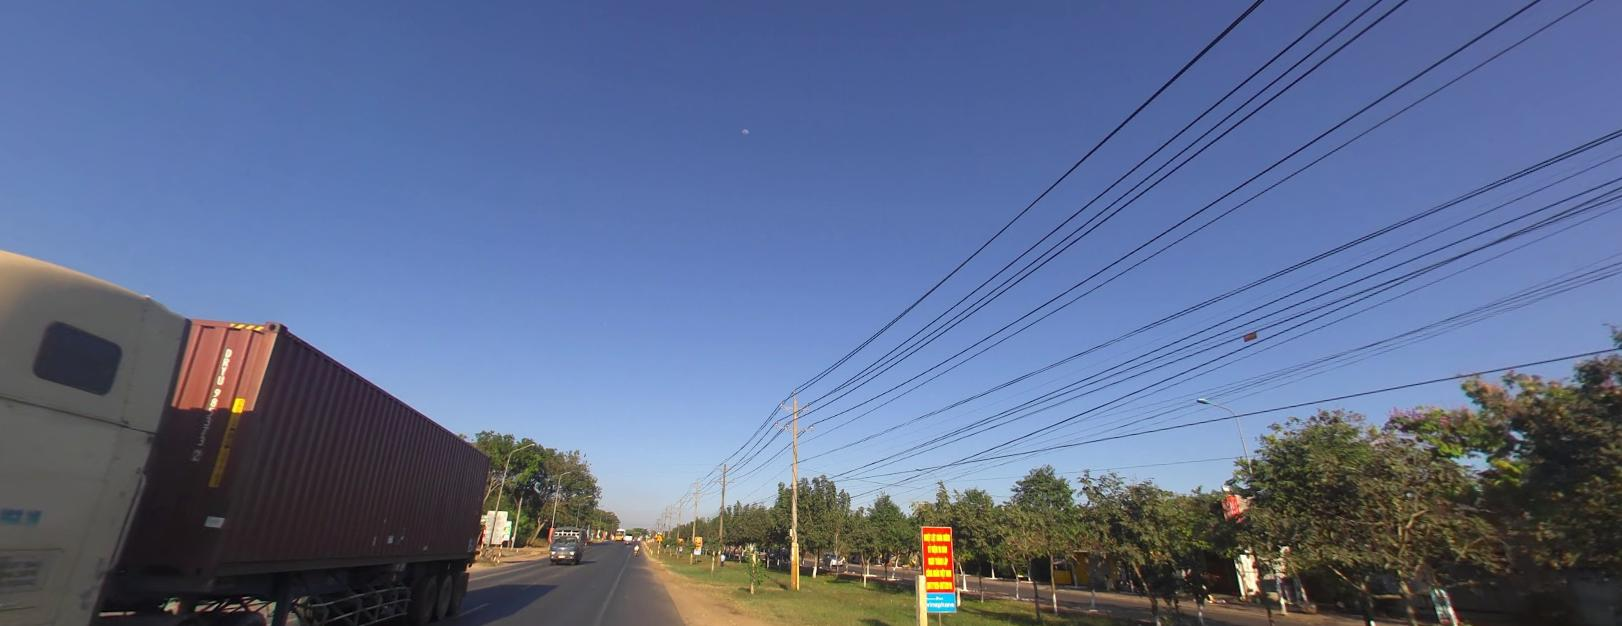Nguy hiem: (655, 533, 663, 541)
